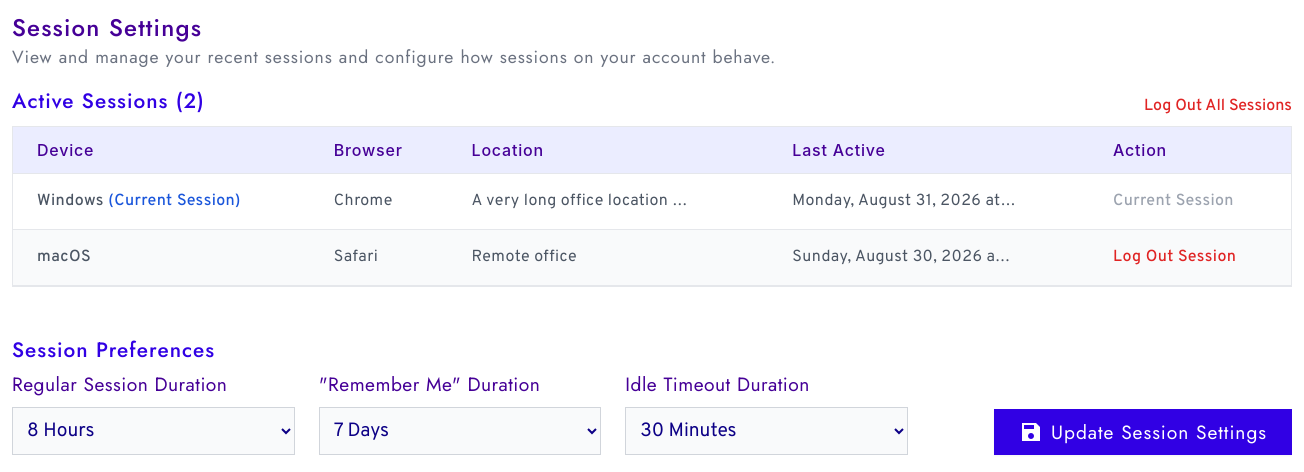
Scenario: SessionSettingsPage › preserves the existing session revoke action
The width and height of the screenshot is (1304, 472).
Click the button "Log Out Session": (1175, 258) top-left (1113, 246), bottom-right (1236, 269)
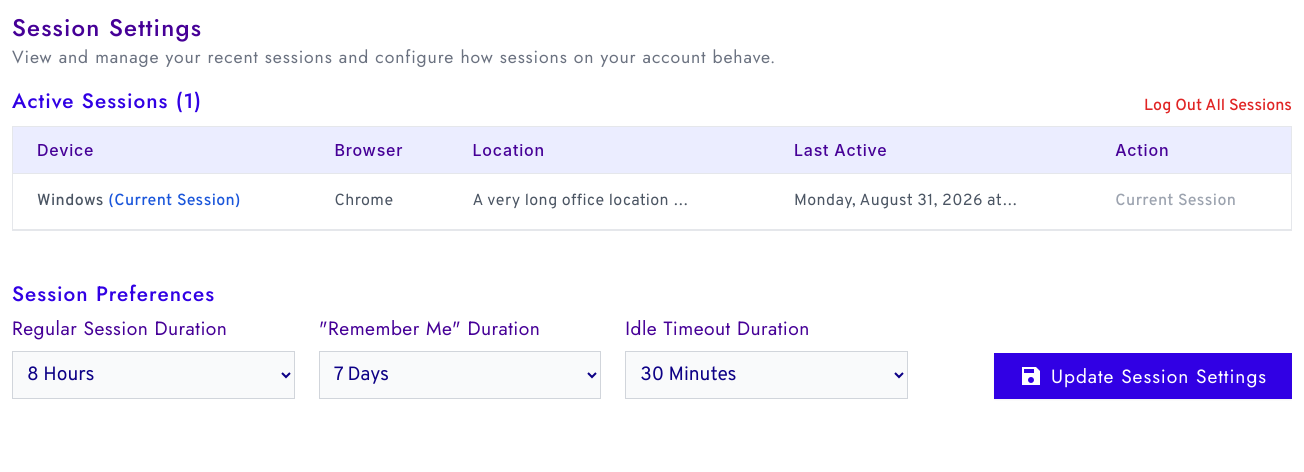
Expected: the text "macOS" is gone
